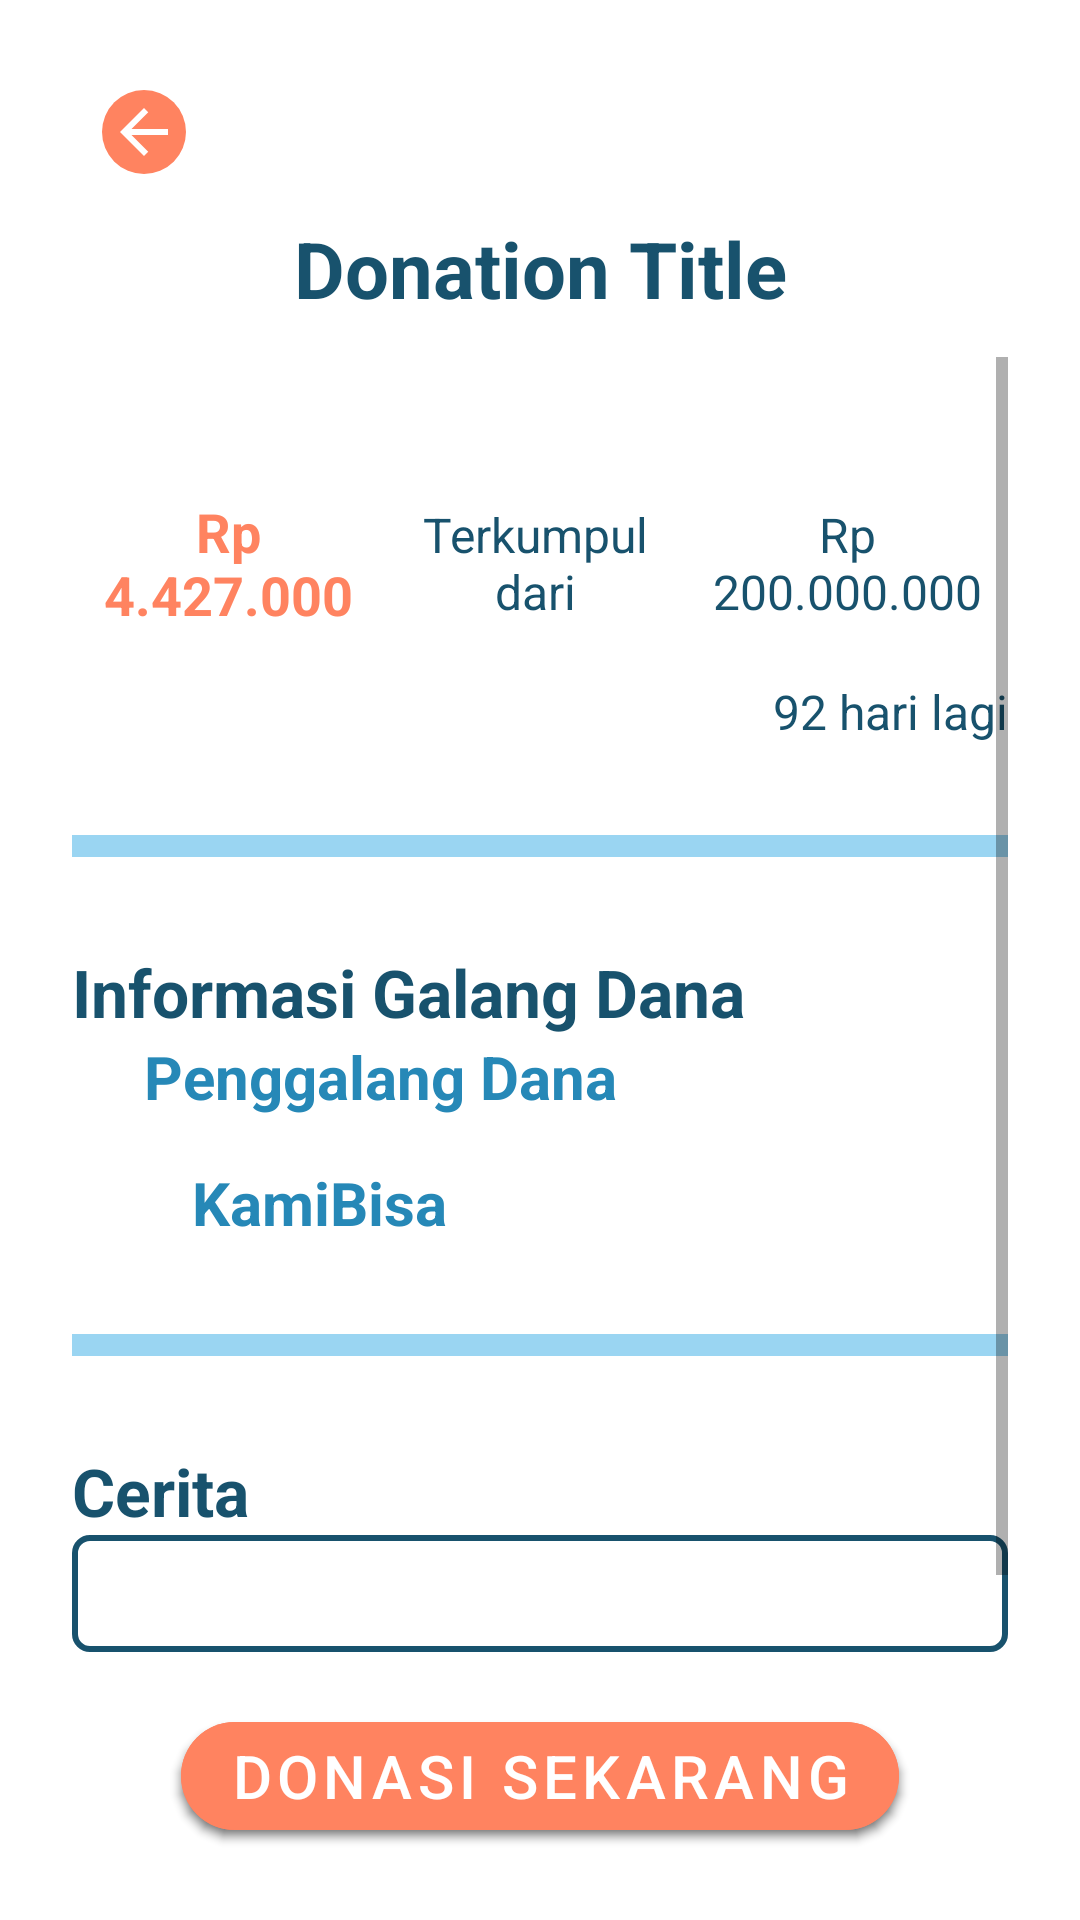

Screen size 1080x1920. Icon name, then its box in pixels as Rect(x1, y1, x2, y2):
back: Rect(102, 90, 186, 174)
